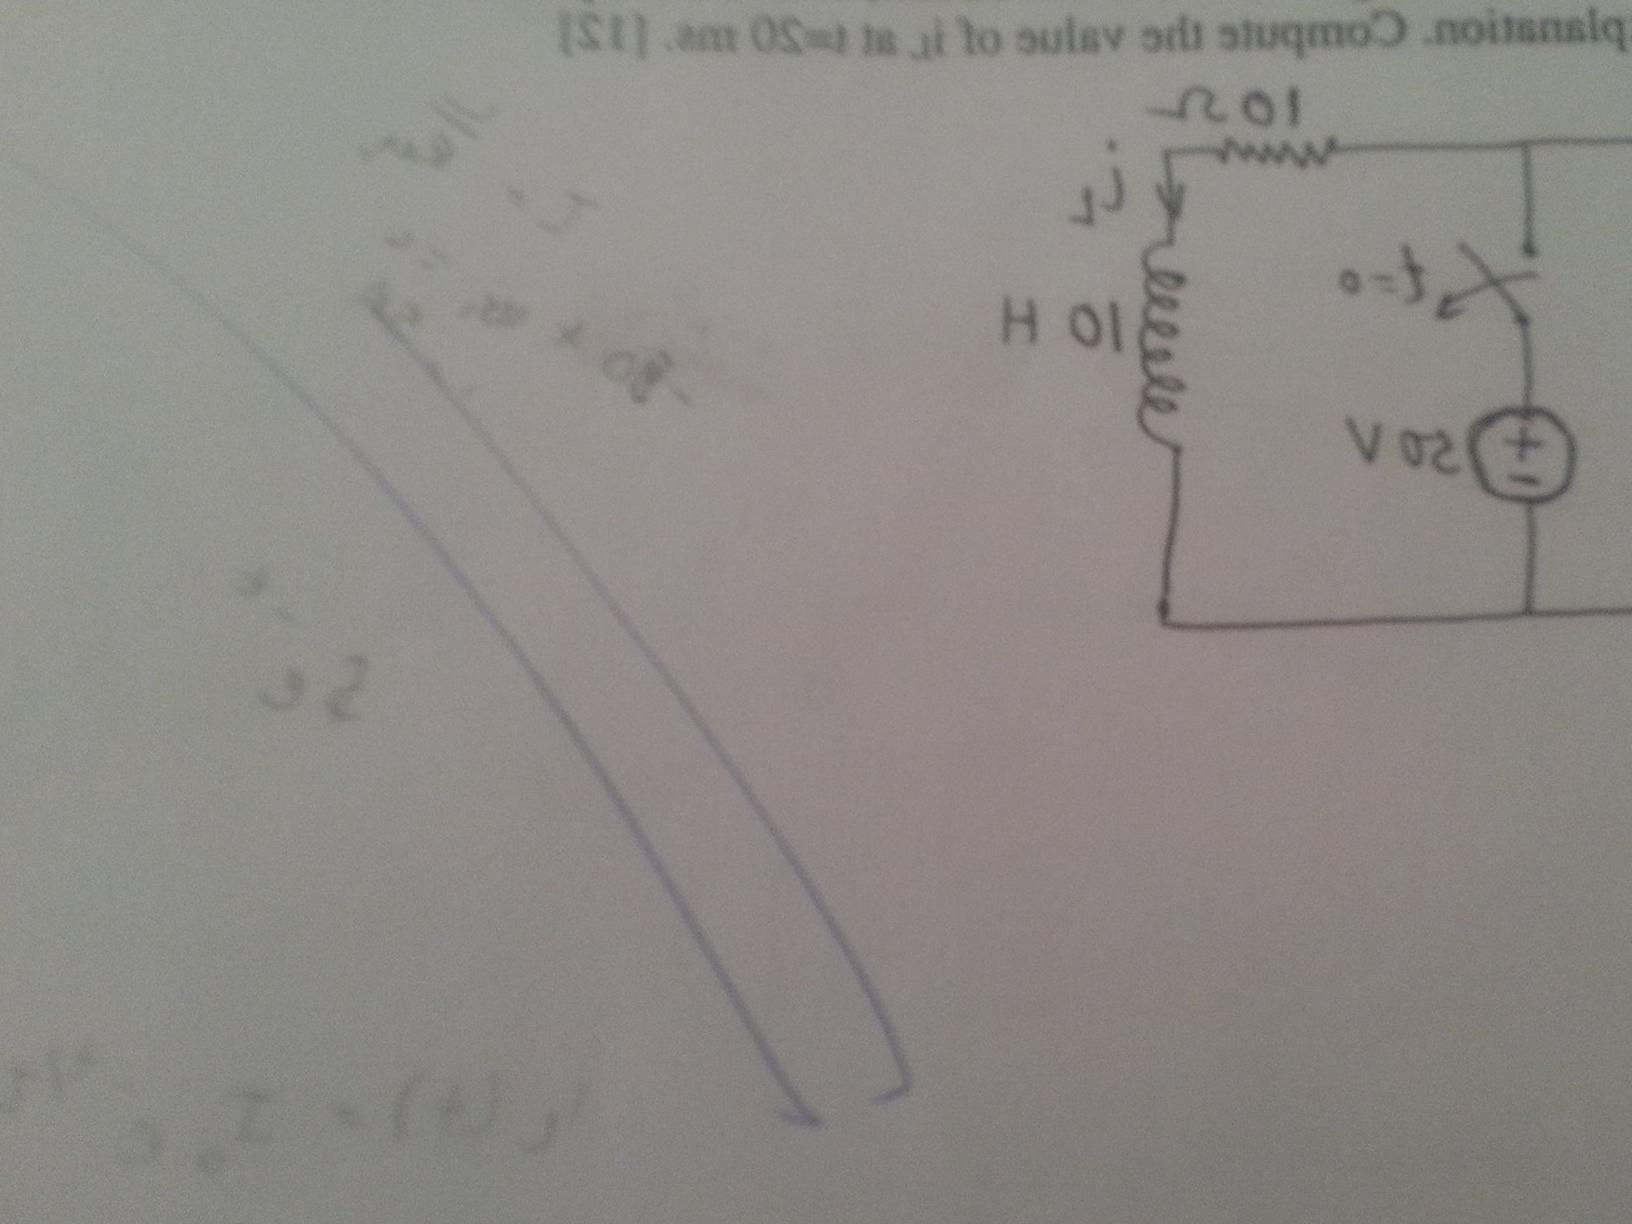Battery: (1448, 381, 1610, 534)
